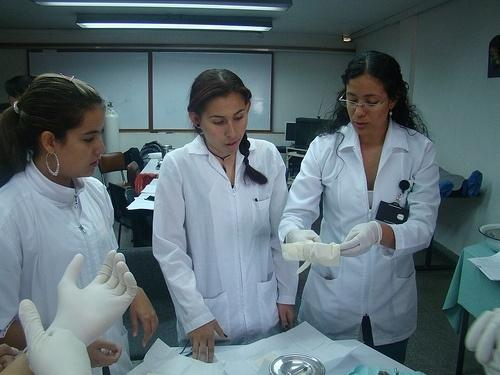Bata-Correcta: (276, 52, 439, 362), (153, 70, 297, 361)
